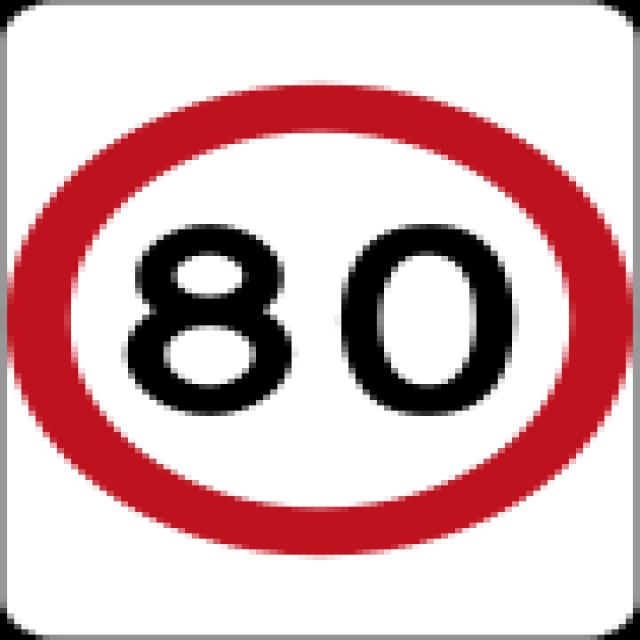Speed Limit -80-: (114, 210, 526, 426)
